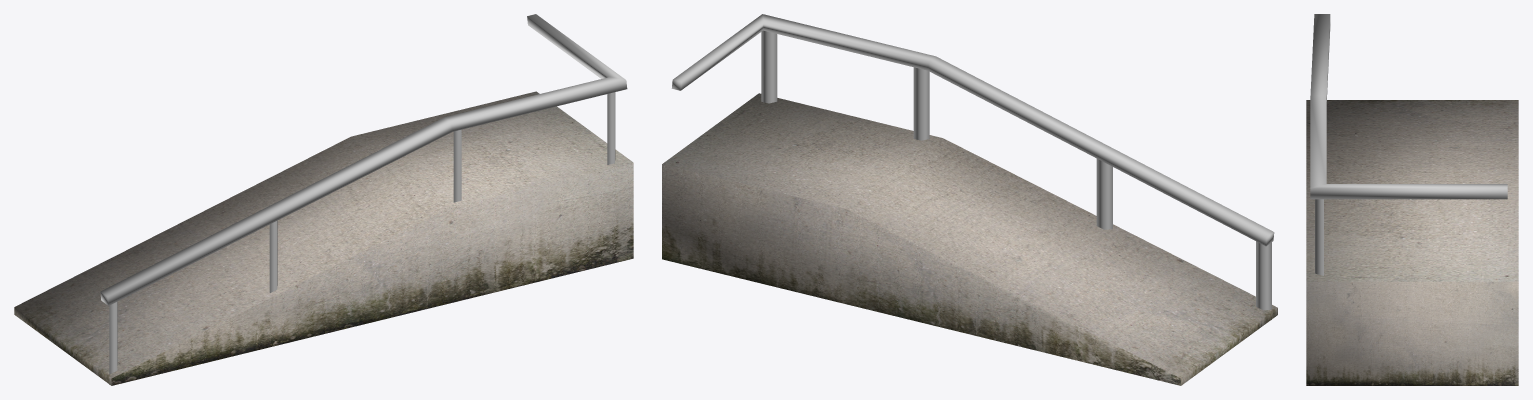
Rendered from ramp.obj.
The picture shows the model from 3 angles, left to right: view 1: azimuth 30°, elevation 25°; view 2: azimuth 150°, elevation 25°; view 3: azimuth 270°, elevation 25°; orthographic projection. The views are drawn at different scales.
Visible parts, largest first — view 1: Cube_Cube.001_None, Cube_Cube.001_None_NONE; view 2: Cube_Cube.001_None, Cube_Cube.001_None_NONE; view 3: Cube_Cube.001_None, Cube_Cube.001_None_NONE.
Part boxes in pixels (<box>): Cube_Cube.001_None: <box>14,91,633,385</box>; Cube_Cube.001_None_NONE: <box>100,14,627,384</box>; Cube_Cube.001_None: <box>662,93,1277,385</box>; Cube_Cube.001_None_NONE: <box>671,14,1274,319</box>; Cube_Cube.001_None: <box>1306,100,1518,385</box>; Cube_Cube.001_None_NONE: <box>1310,14,1507,275</box>.
Size of the model in its own units: 6.19 by 2.05 by 2.
